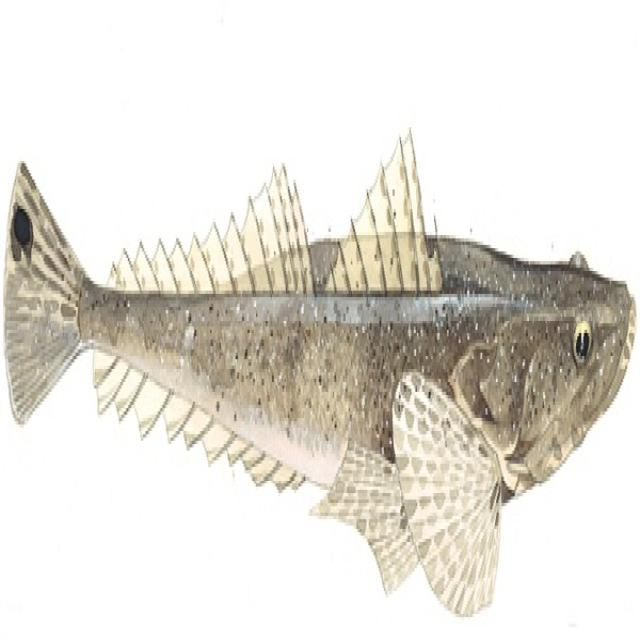Flathead: (4, 119, 640, 640)
